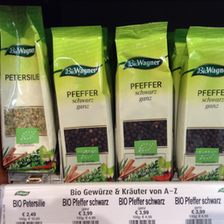spices: (49, 24, 114, 181), (114, 19, 174, 180), (1, 5, 57, 174), (175, 27, 224, 180)
